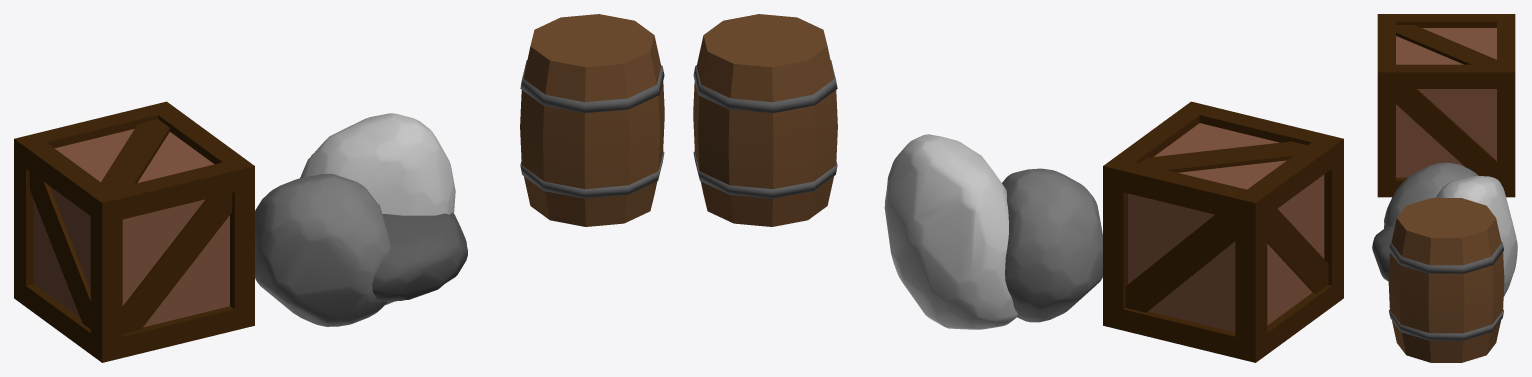
Rendered from Crates_and_Rocks1.fbx.
The picture shows the model from 3 angles, left to right: view 1: azimuth 30°, elevation 25°; view 2: azimuth 150°, elevation 25°; view 3: azimuth 270°, elevation 25°; orthographic projection. The views are drawn at different scales.
Parts seen in each view (by area): view 1: Crate, Rocks, Barrel; view 2: Crate, Rocks, Barrel; view 3: Crate, Barrel, Rocks.
Boxes of the visible parts, left/top/right/bottom form: Crate: left=14, top=101, right=254, bottom=362; Rocks: left=255, top=113, right=467, bottom=326; Barrel: left=520, top=14, right=664, bottom=226; Crate: left=1103, top=101, right=1343, bottom=362; Rocks: left=884, top=134, right=1102, bottom=329; Barrel: left=693, top=14, right=837, bottom=226; Crate: left=1377, top=14, right=1515, bottom=197; Barrel: left=1388, top=198, right=1504, bottom=362; Rocks: left=1372, top=162, right=1517, bottom=296.
Size of the model in its own units: 7.8 by 2.76 by 2.11.
